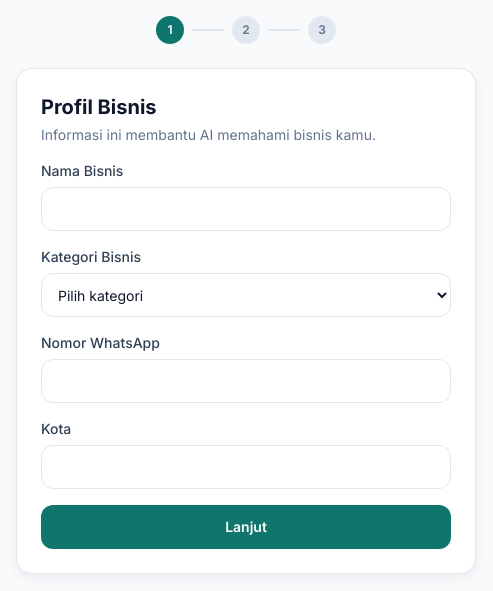
OnboardingPage step gating › advances to step 2 once profile fields are filled
This screenshot has width=493, height=591.
In the field labelled "Nama Bisnis": (246, 209) [41, 187, 451, 231], type "Rina Catering"
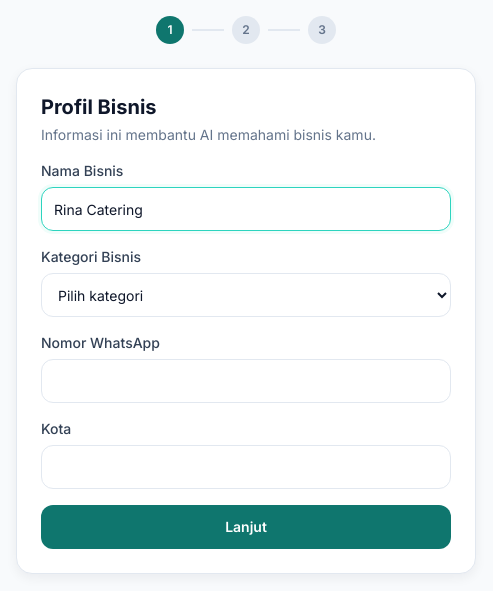
Select "Makanan & Minuman" in the dropdown labelled "Kategori Bisnis": (246, 295) [41, 273, 451, 317]
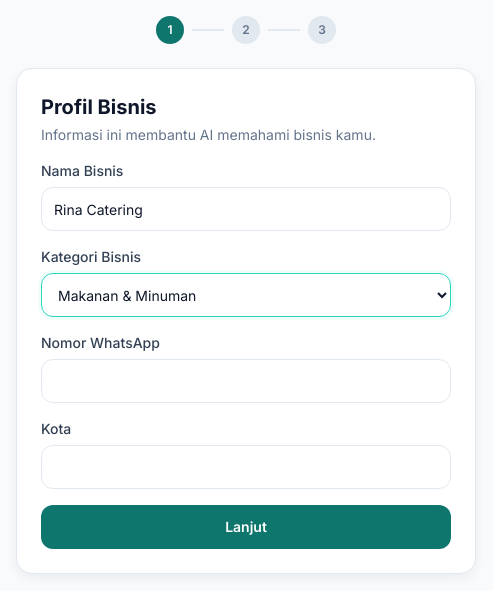
In the field labelled "Nomor WhatsApp": (246, 381) [41, 359, 451, 403], type "08123456789"
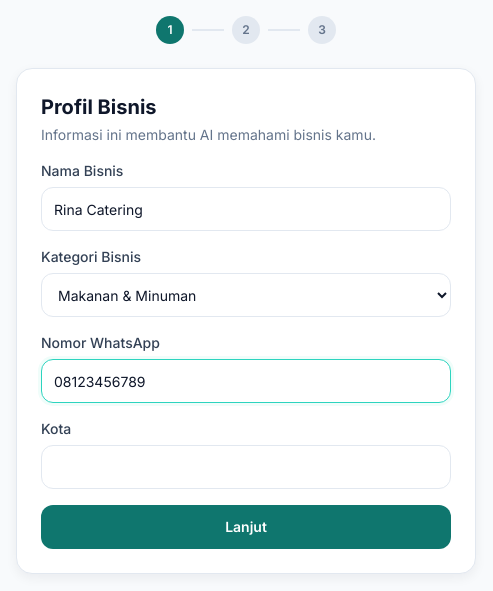
In the field labelled "Kota": (246, 467) [41, 445, 451, 489], type "Bandung"
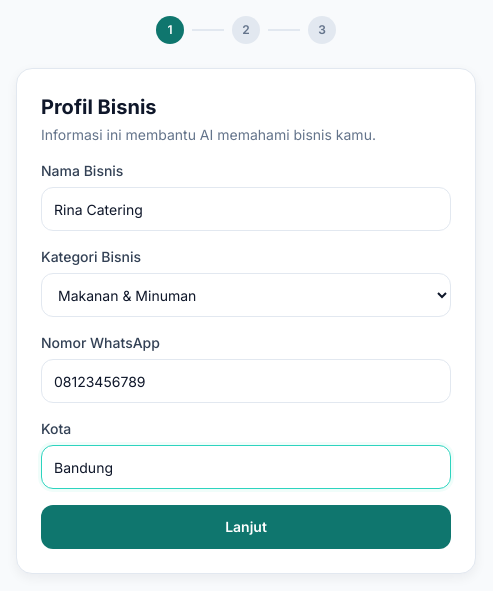
Click the button "Lanjut": (246, 527) [41, 505, 451, 549]
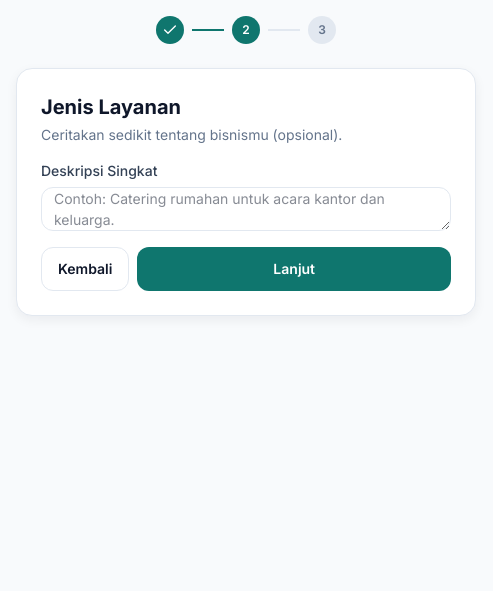
Check: the heading "Jenis Layanan" is shown, box [41, 95, 181, 119]
